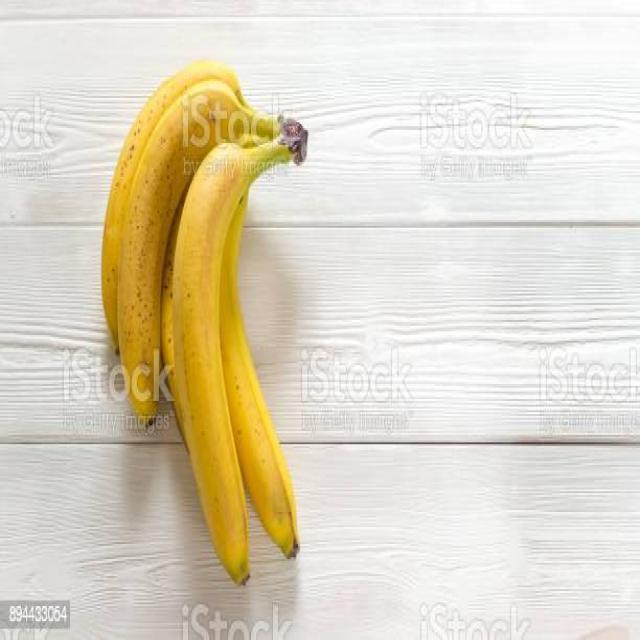Banana: (98, 56, 314, 594)
